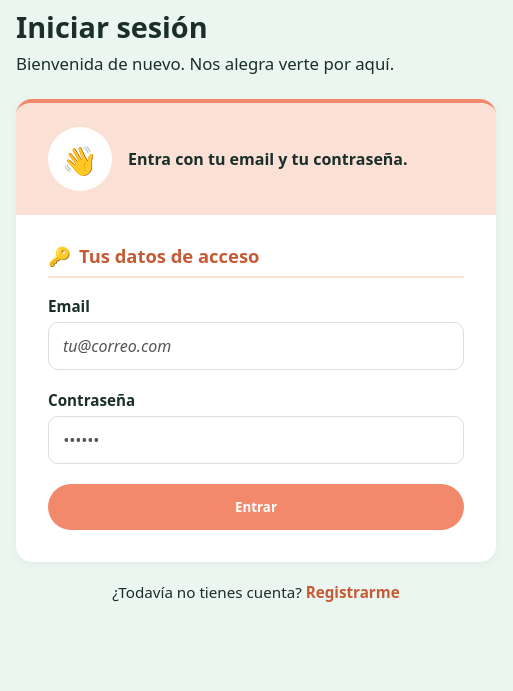
LoginView › si el servidor falla, lo dice y no habla de contraseña incorrecta
Step 1. Type "ana@test.com" into the field with id "email" → (256, 346), box [48,322,464,370]
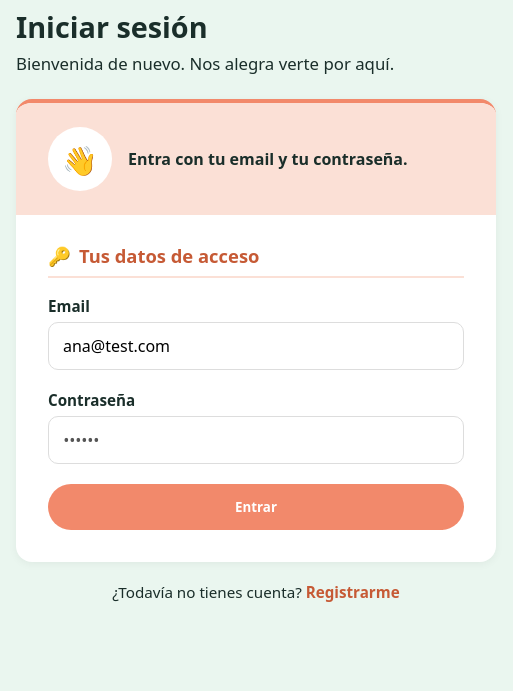
Step 2. Type "12345678" into the password field labelled "Contraseña" → (256, 440), box [48,416,464,464]
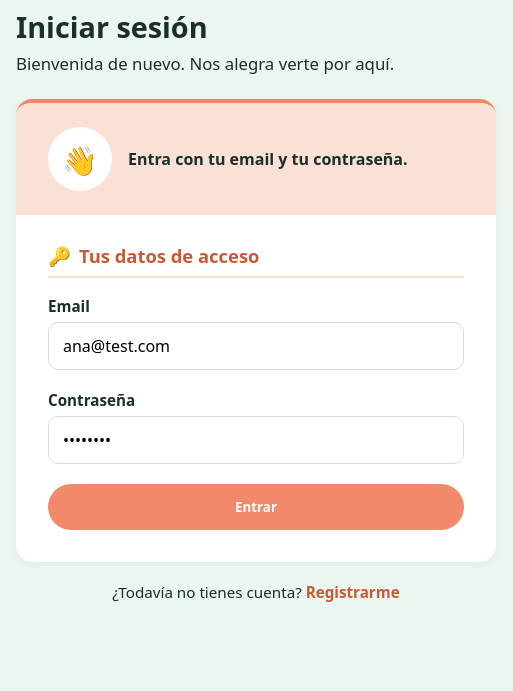
Step 3. Submit the form, box [16,215,496,562]
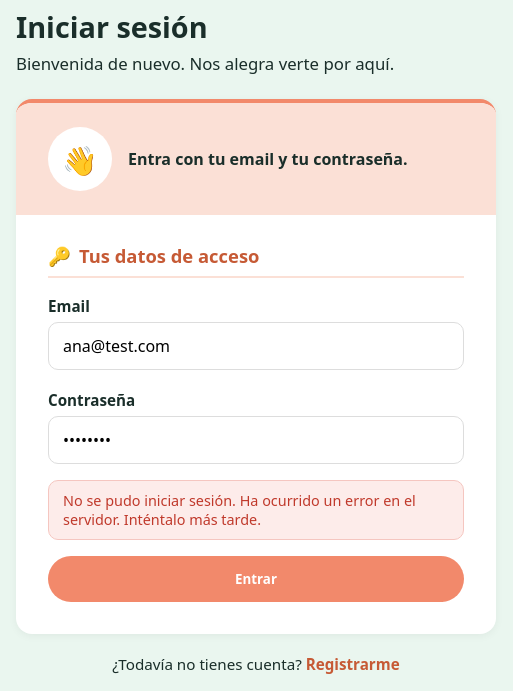
Result: the text "No se pudo iniciar sesión. Ha ocurrido un error en el servidor. Inténtalo más tarde." is shown at [63,491,416,529]
